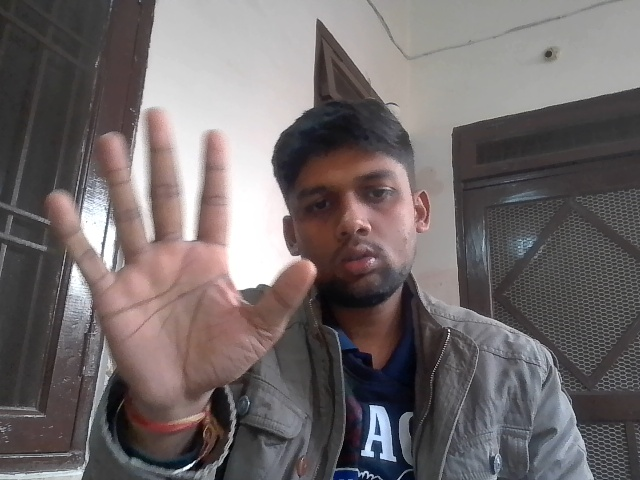Hello: (30, 109, 333, 420)
